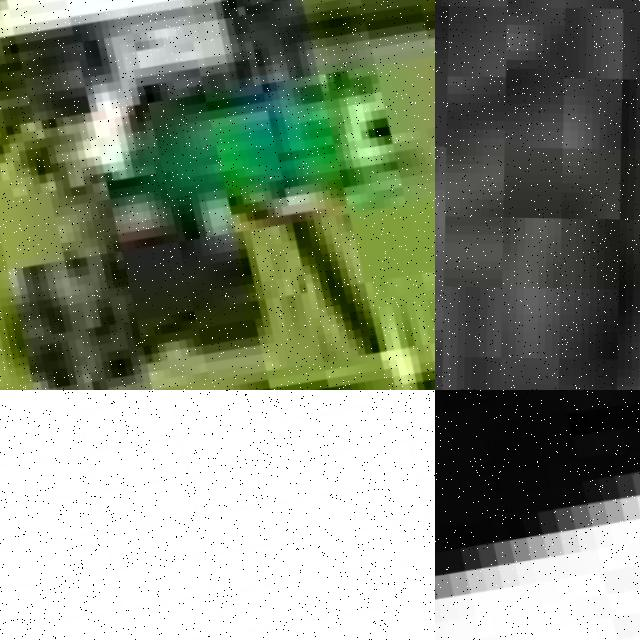drone: (0, 0, 435, 390), (0, 390, 435, 640), (435, 390, 640, 640)
